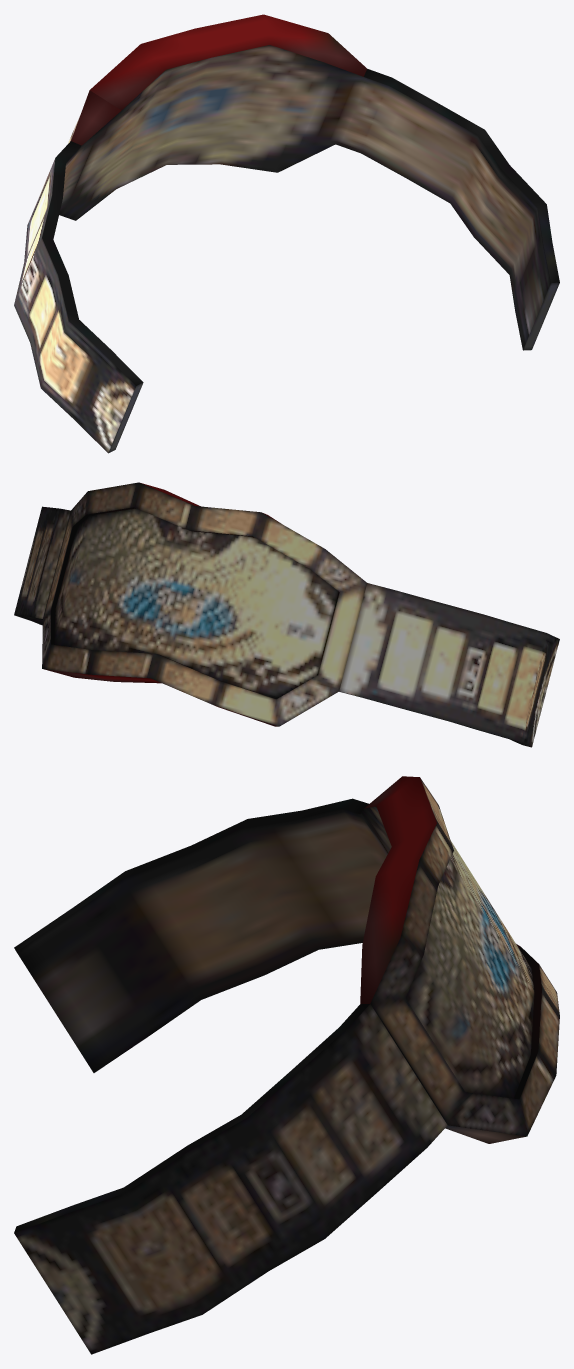
File: Icon_wwc.ico.obj
3 renders of one model, top to bottom at view 1: azimuth 30°, elevation 25°; view 2: azimuth 150°, elevation 25°; view 3: azimuth 270°, elevation 25°, orthographic. The views are drawn at different scales.
Size of the model in its own units: 4.96 by 2.83 by 3.55.
Materials: 1 (1 with a texture image).
